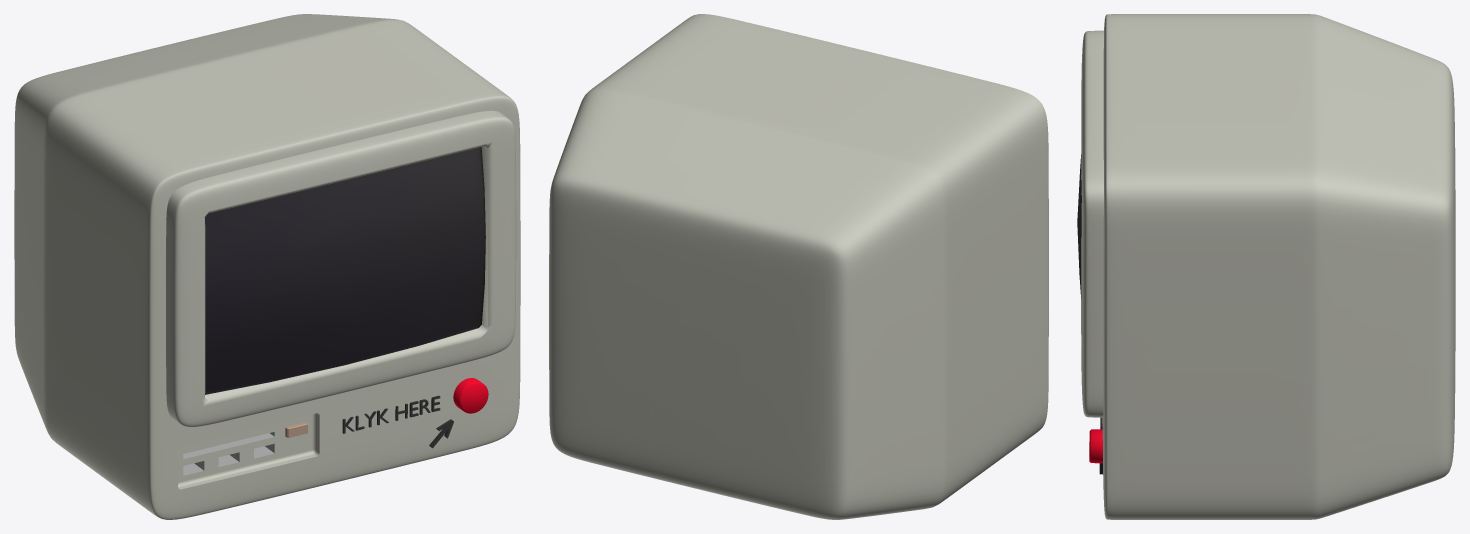
The picture shows the model from 3 angles, left to right: view 1: azimuth 30°, elevation 25°; view 2: azimuth 150°, elevation 25°; view 3: azimuth 270°, elevation 25°; orthographic projection.
Visible parts, largest first — view 1: Monitor_computer, Schermo_computer, Cornice_computer, klyk_here, hb_pc_power_raycaster_pointer; view 2: Monitor_computer; view 3: Monitor_computer, Cornice_computer, hb_pc_power_raycaster_pointer, Schermo_computer.
Part boxes in pixels (<box>): Monitor_computer: <box>14,14,520,519</box>; Schermo_computer: <box>205,147,485,394</box>; Cornice_computer: <box>166,110,516,426</box>; klyk_here: <box>342,395,453,448</box>; hb_pc_power_raycaster_pointer: <box>453,378,488,413</box>; Monitor_computer: <box>549,14,1048,519</box>; Monitor_computer: <box>1102,14,1455,519</box>; Cornice_computer: <box>1081,30,1103,417</box>; hb_pc_power_raycaster_pointer: <box>1089,429,1102,463</box>; Schermo_computer: <box>1077,154,1081,298</box>.
Bounding box in the file's own units: 1.13 × 1.02 × 0.9978.
6 materials, 1 textured.
